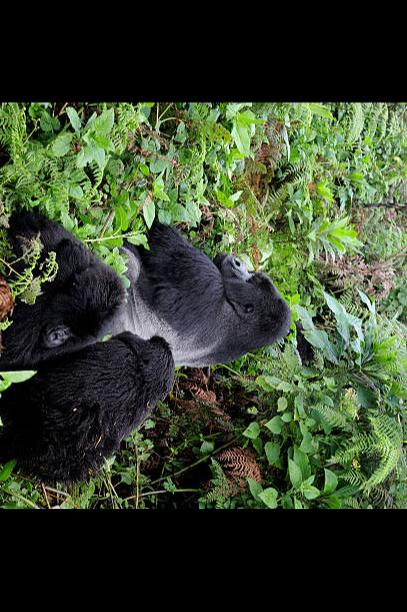goriile_montagne: (127, 224, 280, 365), (2, 224, 123, 354)
